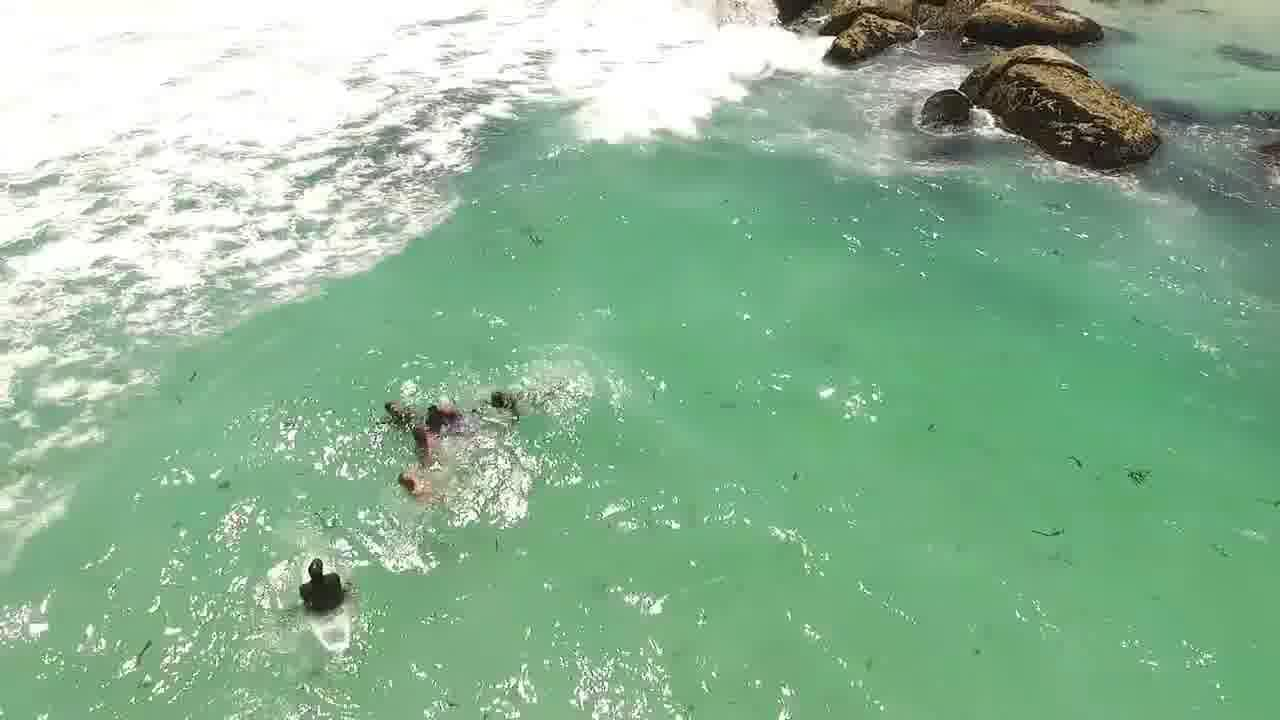human: (422, 386, 474, 436), (396, 411, 452, 457), (473, 382, 536, 422), (384, 463, 443, 500), (362, 391, 417, 430)
